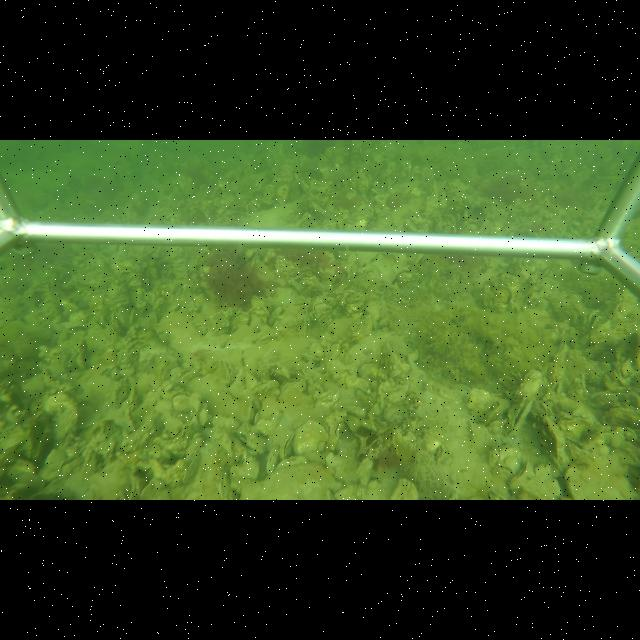Oyster-Closed: (43, 390, 77, 446), (480, 272, 520, 312), (152, 426, 196, 458), (293, 420, 329, 456), (206, 307, 250, 335), (540, 413, 564, 463), (557, 410, 595, 434), (277, 375, 309, 403), (507, 460, 535, 490), (249, 292, 271, 324), (250, 379, 280, 399), (353, 386, 375, 410), (280, 430, 296, 460), (264, 446, 280, 474)
Oyster-Open: (505, 368, 543, 438), (230, 429, 268, 455), (586, 309, 602, 333)
